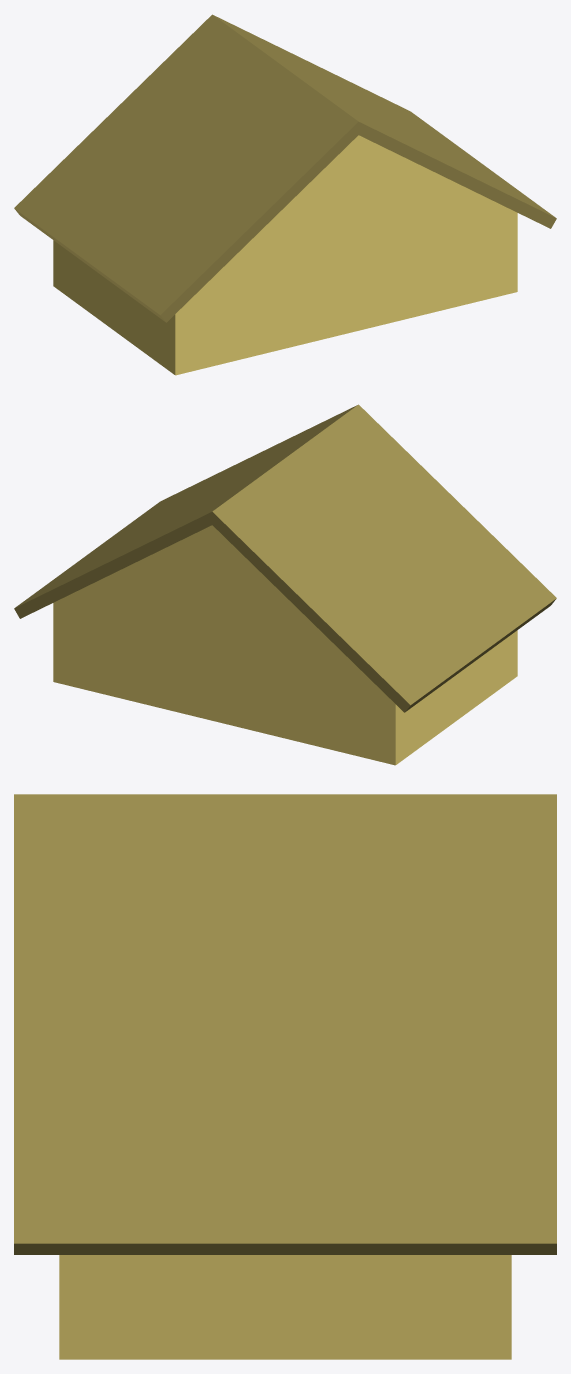
File: result.glb
3 views of the same model, one above another, from view 1: azimuth 30°, elevation 25°; view 2: azimuth 150°, elevation 25°; view 3: azimuth 270°, elevation 25° (orthographic). The views are drawn at different scales.
Parts seen in each view (by area): view 1: d059b433-a050-48cb-9e15-987f53421a31__undefined (×2), 84375df8-962f-426f-b2f2-e67fb19b86b8__undefined; view 2: d059b433-a050-48cb-9e15-987f53421a31__undefined (×2), 84375df8-962f-426f-b2f2-e67fb19b86b8__undefined; view 3: d059b433-a050-48cb-9e15-987f53421a31__undefined, 84375df8-962f-426f-b2f2-e67fb19b86b8__undefined.
Part boxes in pixels (x1=…): d059b433-a050-48cb-9e15-987f53421a31__undefined (×2): x1=14, y1=14, x2=556, y2=322; 84375df8-962f-426f-b2f2-e67fb19b86b8__undefined: x1=53, y1=135, x2=517, y2=375; d059b433-a050-48cb-9e15-987f53421a31__undefined (×2): x1=14, y1=404, x2=556, y2=712; 84375df8-962f-426f-b2f2-e67fb19b86b8__undefined: x1=53, y1=525, x2=517, y2=765; d059b433-a050-48cb-9e15-987f53421a31__undefined: x1=14, y1=794, x2=556, y2=1254; 84375df8-962f-426f-b2f2-e67fb19b86b8__undefined: x1=59, y1=1255, x2=511, y2=1359.
Bounding box in the file's own units: 939 × 500 × 600.
